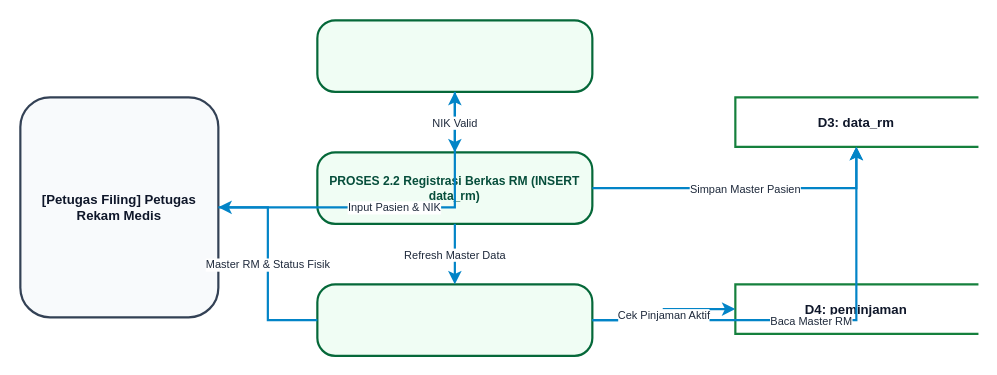
Image size: 997x375. Some labels were removed from this diagram. Each missing label, with the centre of its shape:
PROSES 2.1 Validasi Format NIK (Wajib 16 Digit Angka): (454,55)
PROSES 2.3 Evaluasi Ketersediaan (EXISTS (isDipinjam)): (454,319)
